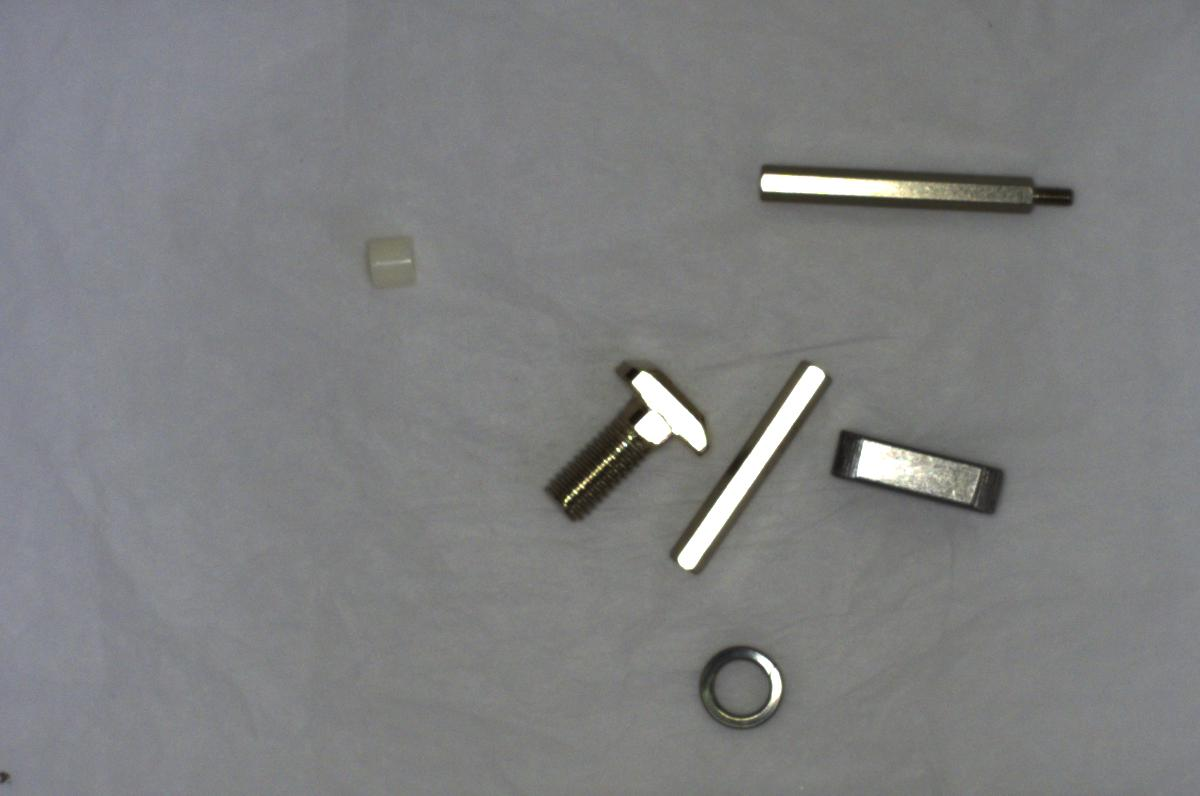Double hexagonal column: (647, 355, 846, 577)
Hexagonal steel column: (743, 158, 1084, 221)
Keybar: (821, 419, 1010, 518)
Plastic cushion pillar: (335, 226, 432, 301)
Spring washer: (685, 637, 793, 741)
T-shaped screw: (547, 350, 721, 527)
